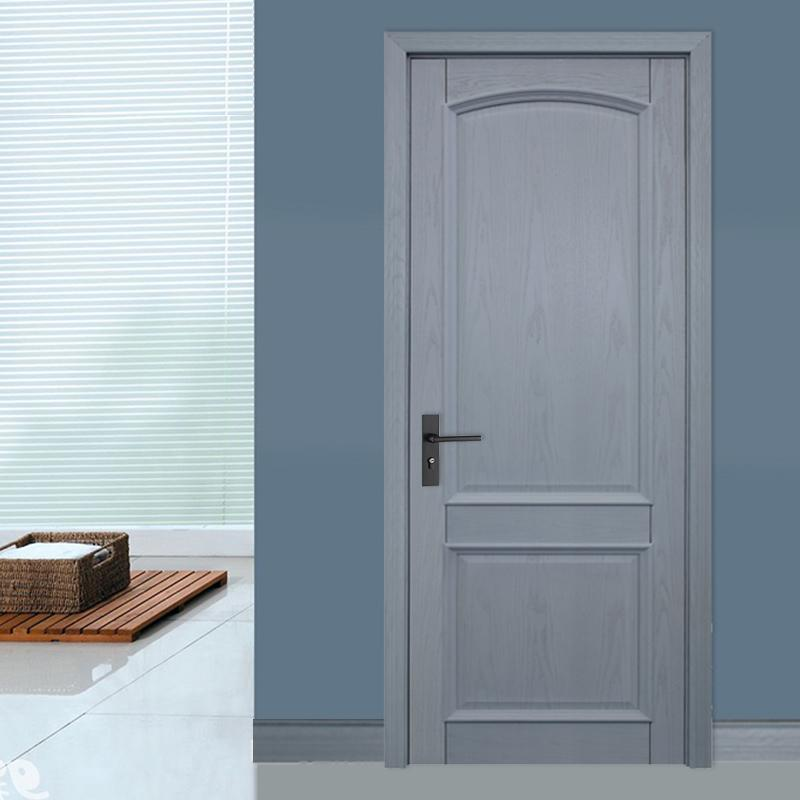door: (408, 54, 689, 757)
